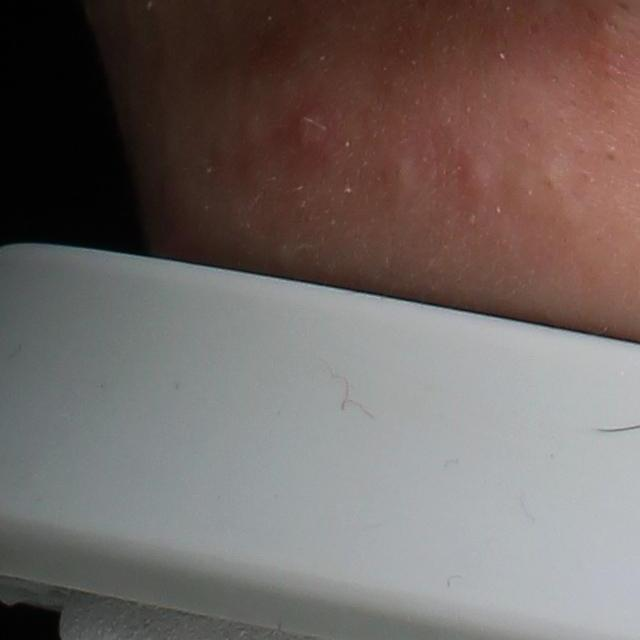comedo: (389, 155, 413, 186), (603, 145, 617, 164)
papule: (274, 100, 340, 186), (453, 158, 493, 206)
